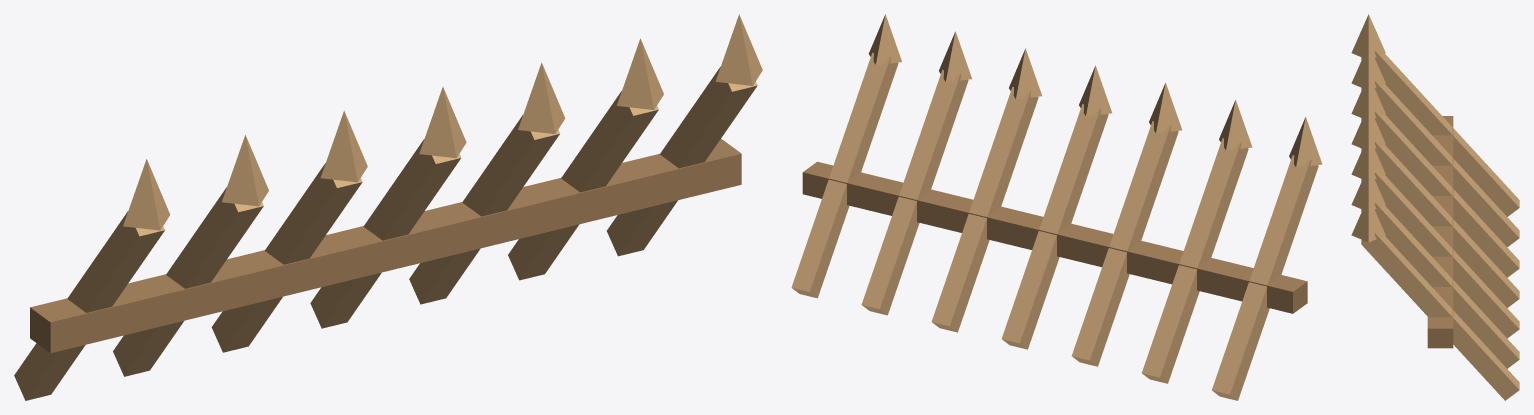
File: stake-barricade.glb
The picture shows the model from 3 angles, left to right: view 1: azimuth 30°, elevation 25°; view 2: azimuth 150°, elevation 25°; view 3: azimuth 270°, elevation 25°; orthographic projection. The views are drawn at different scales.
Parts seen in each view (by area): view 1: stake-barricade; view 2: stake-barricade; view 3: stake-barricade.
Boxes of the visible parts, x1,y1,x2,y2 form: stake-barricade: (14,14,762,400); stake-barricade: (791,14,1322,400); stake-barricade: (1351,14,1519,400).
Bounding box in the file's own units: 3.5 × 1.54 × 1.17.
